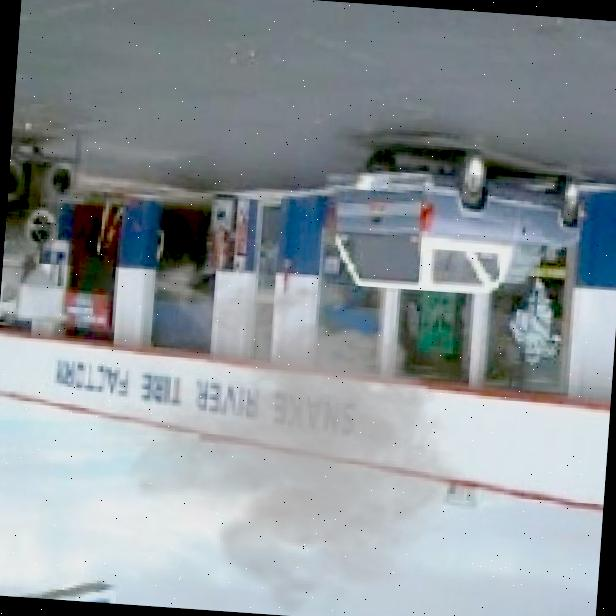smoke: (58, 244, 499, 616)
